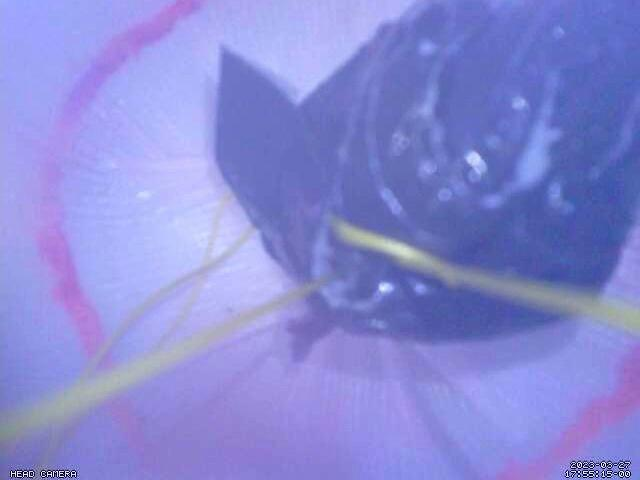head: (34, 1, 640, 480)
